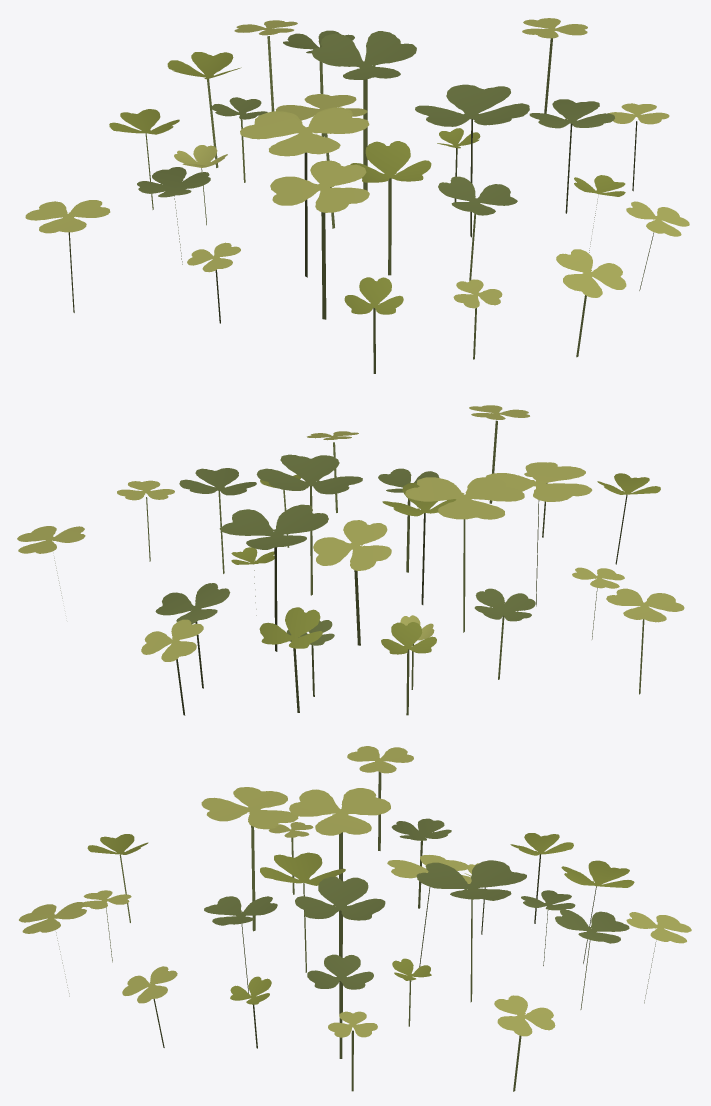
The model's file is Clover_3.fbx.
The picture shows the model from 3 angles, top to bottom: view 1: azimuth 30°, elevation 25°; view 2: azimuth 150°, elevation 25°; view 3: azimuth 270°, elevation 25°; orthographic projection. The views are drawn at different scales.
Parts seen in each view (by area): view 1: Clover_3; view 2: Clover_3; view 3: Clover_3.
Part boxes in pixels (x1,y1,x2,y2): Clover_3: (25,18,689,373); Clover_3: (17,405,684,715); Clover_3: (19,746,691,1091).
Size of the model in its own units: 139 by 30.13 by 140.
Materials: 1 (1 with a texture image).
